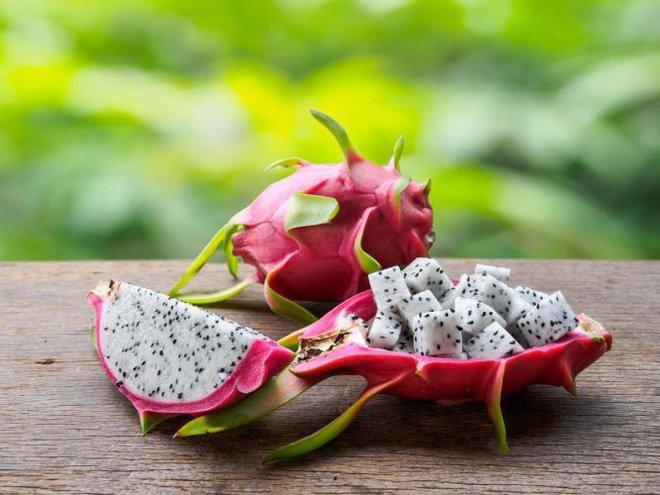dragon-fruit: (350, 276, 615, 408), (232, 157, 438, 305), (94, 278, 299, 418), (363, 255, 583, 360)
